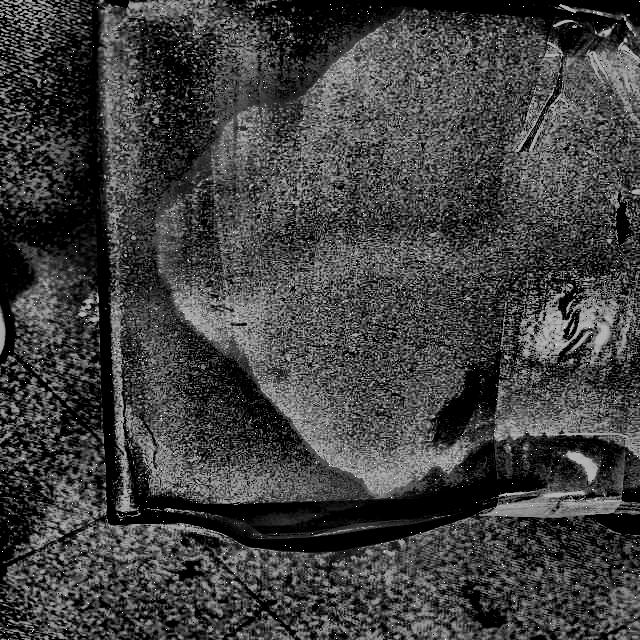box: (70, 0, 640, 561)
wet: (98, 1, 344, 516)
